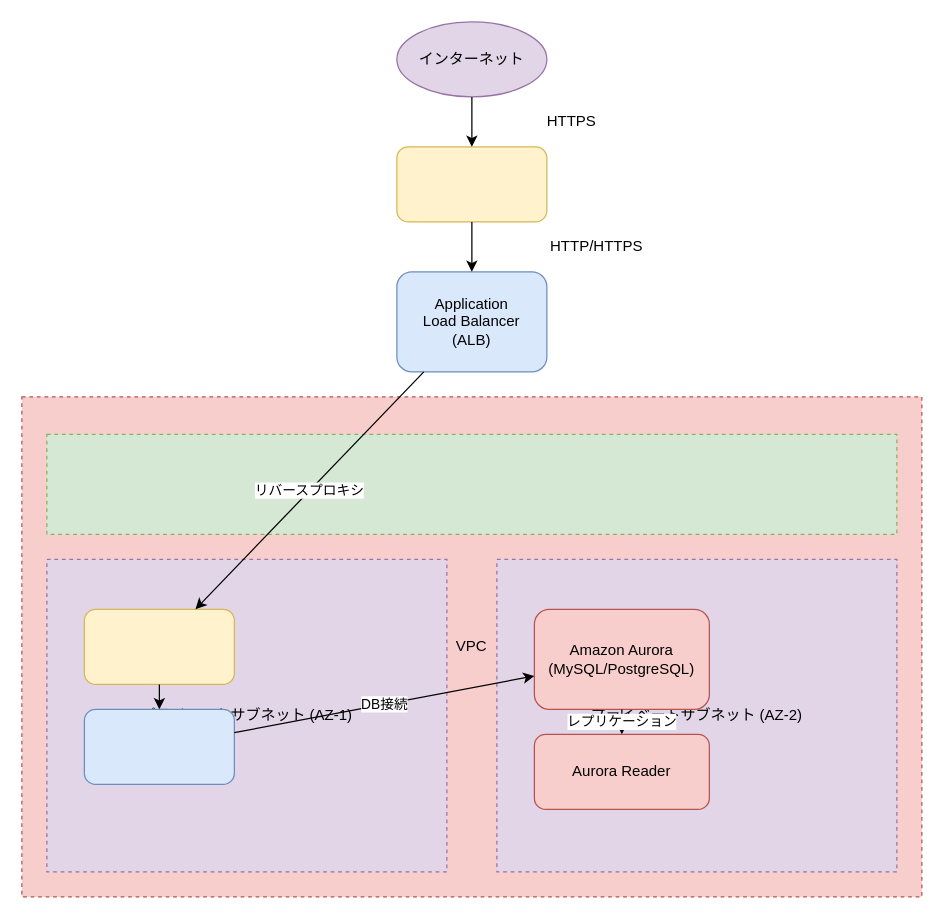
Image size: 944x919. Some labels were removed from this diagram. Each missing label, with the centre of its shape:
AWS WAF: (x=471, y=184)
Docker WEBサーバー: (x=158, y=746)
EC2インスタンス: (x=158, y=646)
パブリックサブネット: (x=471, y=483)
